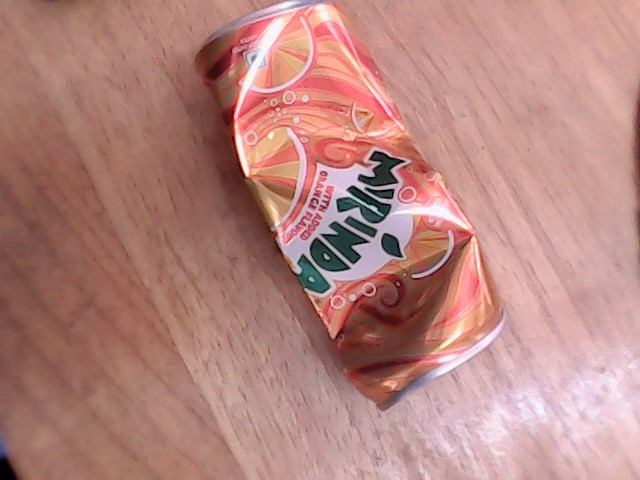Metal: (190, 7, 533, 399)
